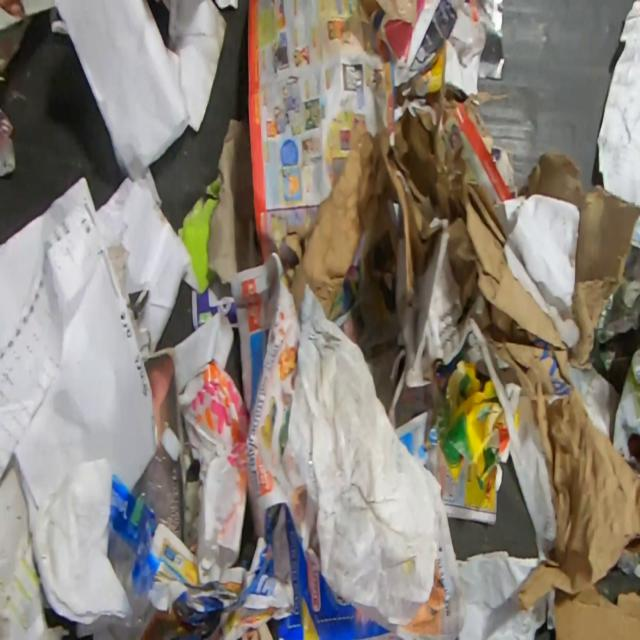cardboard: (283, 83, 639, 407), (95, 167, 198, 366), (552, 586, 640, 639)
rigid_plastic: (105, 424, 184, 640)
